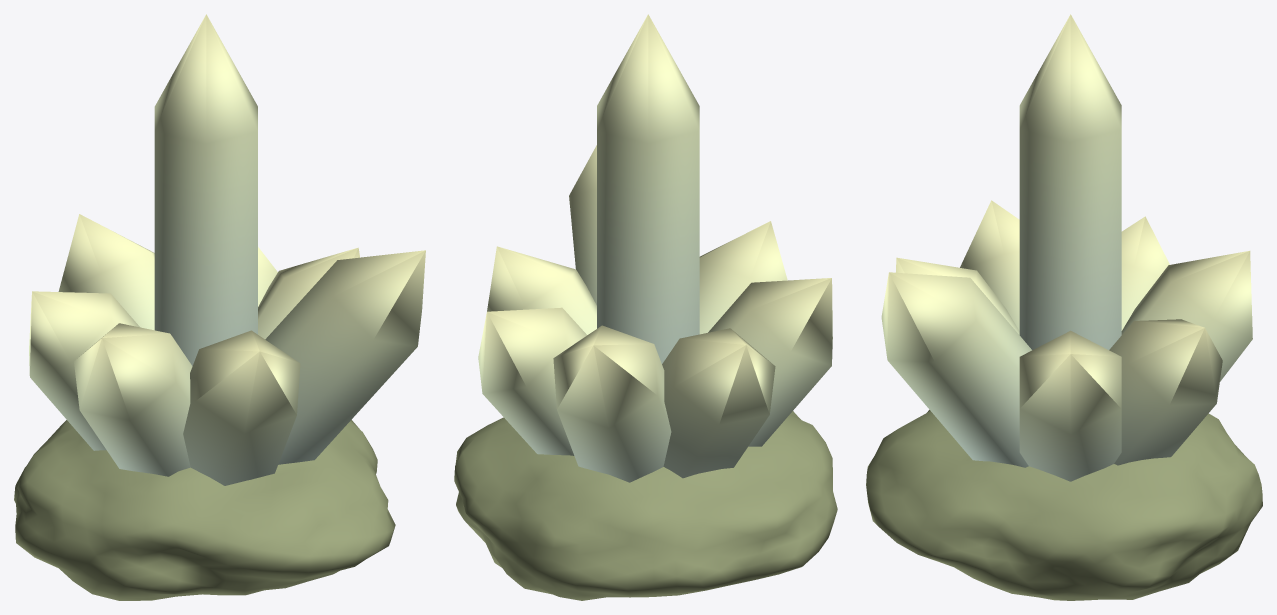
File: flash.fbx
The picture shows the model from 3 angles, left to right: view 1: azimuth 30°, elevation 25°; view 2: azimuth 150°, elevation 25°; view 3: azimuth 270°, elevation 25°; orthographic projection.
Parts seen in each view (by area): view 1: flash; view 2: flash; view 3: flash.
Part boxes in pixels (left/top/right/bottom): flash: left=14, top=14, right=425, bottom=600; flash: left=454, top=14, right=837, bottom=600; flash: left=866, top=14, right=1262, bottom=600.
Size of the model in its own units: 0.0573 by 0.09 by 0.0591.
1 material, 1 textured.
